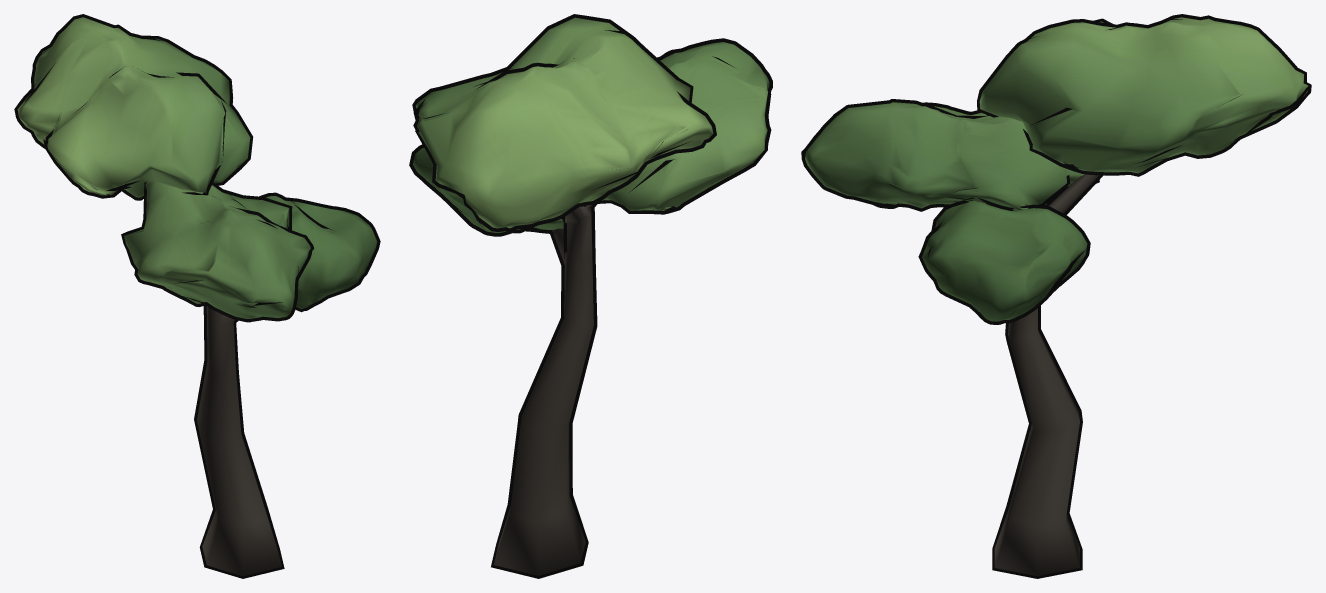
File: env_big_tree.glb
The picture shows the model from 3 angles, left to right: view 1: azimuth 30°, elevation 25°; view 2: azimuth 150°, elevation 25°; view 3: azimuth 270°, elevation 25°; orthographic projection. The views are drawn at different scales.
Visible parts, largest first — view 1: Cube.002; view 2: Cube.002; view 3: Cube.002.
Part boxes in pixels (x1,y1,x2,y2): Cube.002: (14,14,380,578); Cube.002: (409,14,772,578); Cube.002: (801,14,1311,578).
Size of the model in its own units: 1.33 by 2.13 by 1.94.
Materials: 2 (1 with a texture image).
